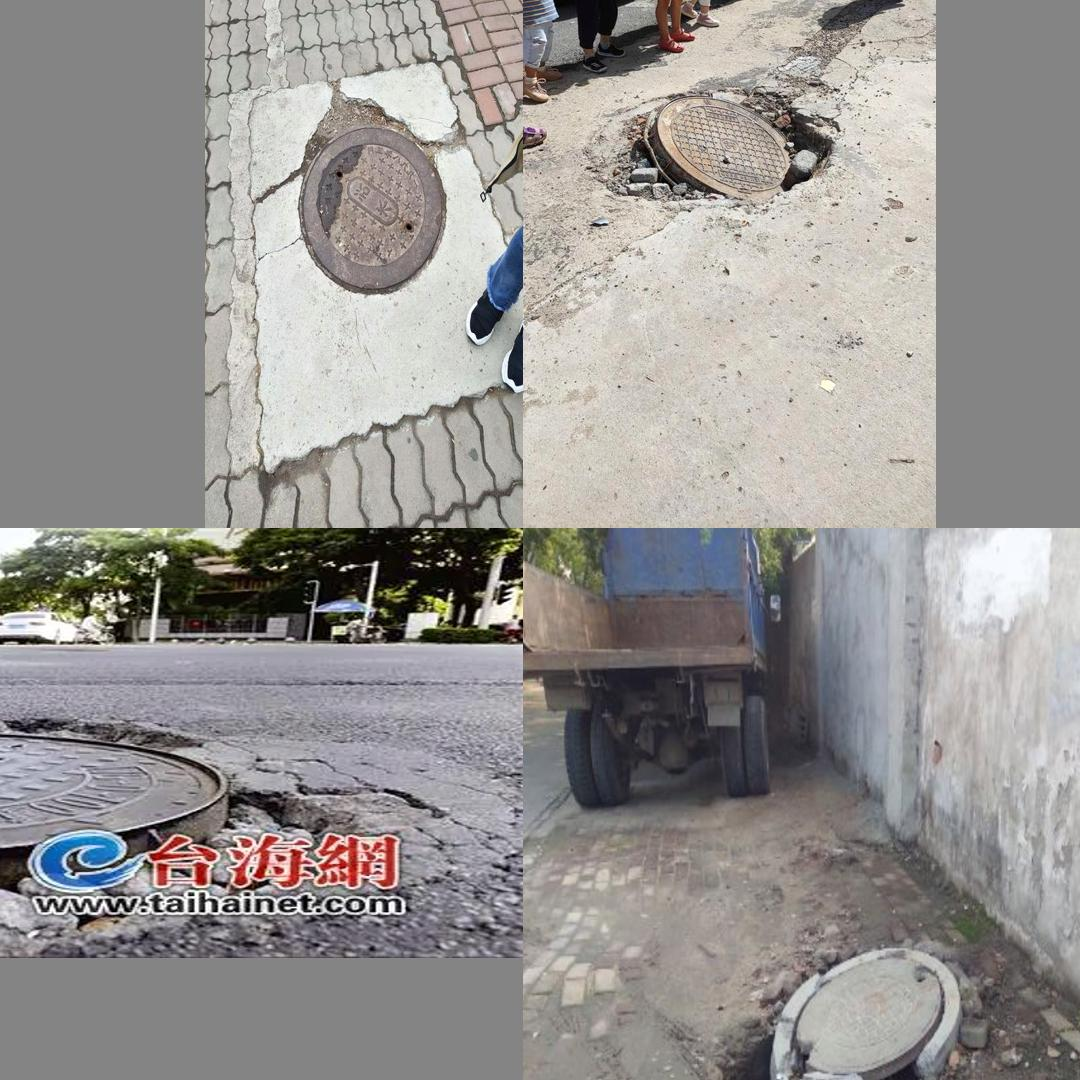circle: (0, 716, 467, 933), (578, 55, 872, 238), (261, 85, 474, 322), (735, 944, 964, 1080)
